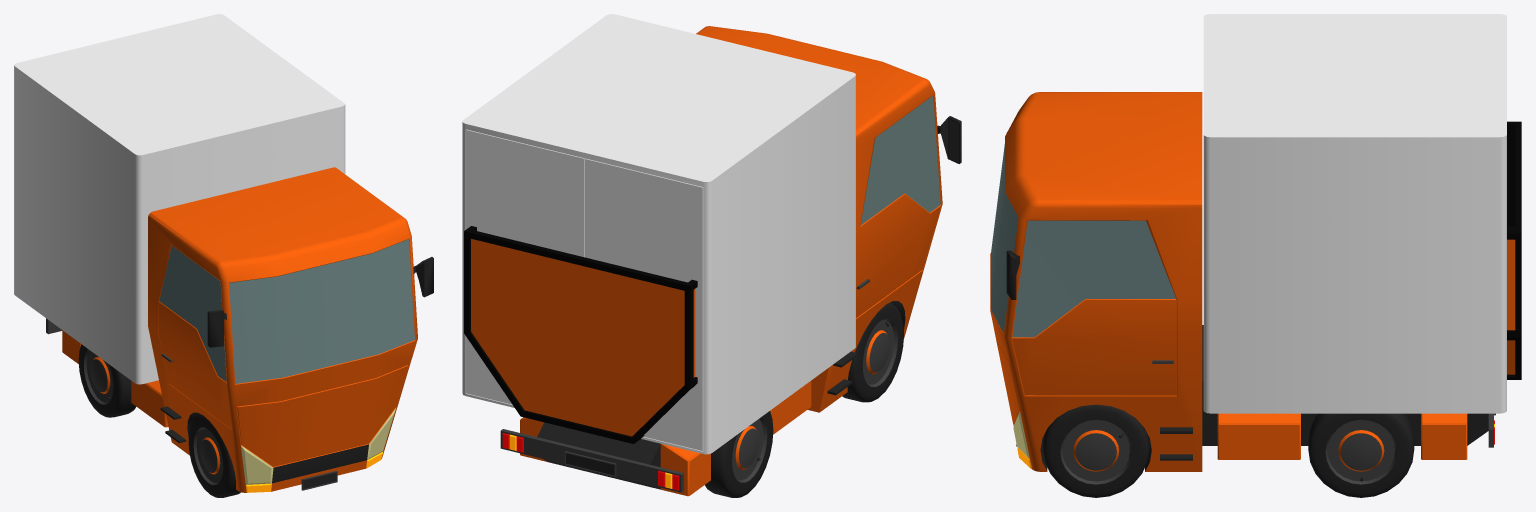
Rendered from Cartoon_Truck_T01.dae.
The picture shows the model from 3 angles, left to right: view 1: azimuth 30°, elevation 25°; view 2: azimuth 150°, elevation 25°; view 3: azimuth 270°, elevation 25°; orthographic projection. The views are drawn at different scales.
Parts seen in each view (by area): view 1: straight, body, elements, Hood, Door_R, Tire_Front_R, Tire_Back_R; view 2: straight, door_B, body, door_rear_L, door_rear_R, Door_R, Tire_Front_R, Tire_Back_R, elements, Dump; view 3: straight, body, Door_L, Tire_Front_L, Tire_Back_L, elements, Dump, door_B, Hood.
Part boxes in pixels (x1=…): straight: x1=14, y1=14, x2=345, y2=384; body: x1=46, y1=167, x2=417, y2=492; elements: x1=160, y1=239, x2=433, y2=490; Hood: x1=237, y1=365, x2=408, y2=466; Door_R: x1=159, y1=246, x2=231, y2=428; Tire_Front_R: x1=188, y1=414, x2=240, y2=497; Tire_Back_R: x1=78, y1=344, x2=136, y2=417; straight: x1=462, y1=14, x2=855, y2=454; door_B: x1=464, y1=230, x2=690, y2=443; body: x1=500, y1=26, x2=942, y2=496; door_rear_L: x1=584, y1=158, x2=703, y2=451; door_rear_R: x1=466, y1=129, x2=584, y2=404; Door_R: x1=856, y1=96, x2=941, y2=317; Tire_Front_R: x1=842, y1=302, x2=903, y2=402; Tire_Back_R: x1=705, y1=411, x2=773, y2=497; elements: x1=564, y1=116, x2=961, y2=477; Dump: x1=465, y1=226, x2=697, y2=443; straight: x1=1203, y1=14, x2=1506, y2=413; body: x1=990, y1=92, x2=1494, y2=471; Door_L: x1=1012, y1=220, x2=1176, y2=395; Tire_Front_L: x1=1043, y1=404, x2=1149, y2=497; Tire_Back_L: x1=1308, y1=413, x2=1414, y2=497; elements: x1=991, y1=132, x2=1495, y2=460; Dump: x1=1507, y1=121, x2=1521, y2=379; door_B: x1=1515, y1=122, x2=1521, y2=233; Hood: x1=996, y1=340, x2=1019, y2=425.
Size of the model in its own units: 236 by 315 by 401.
